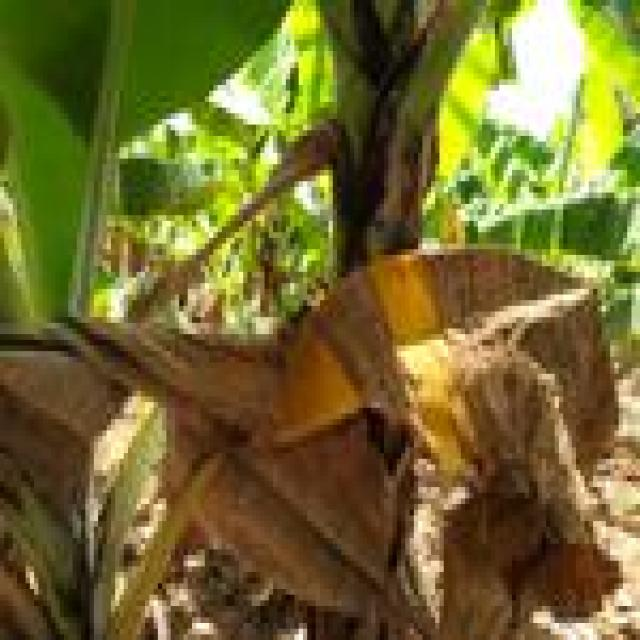Early_rust: (263, 240, 481, 498)
